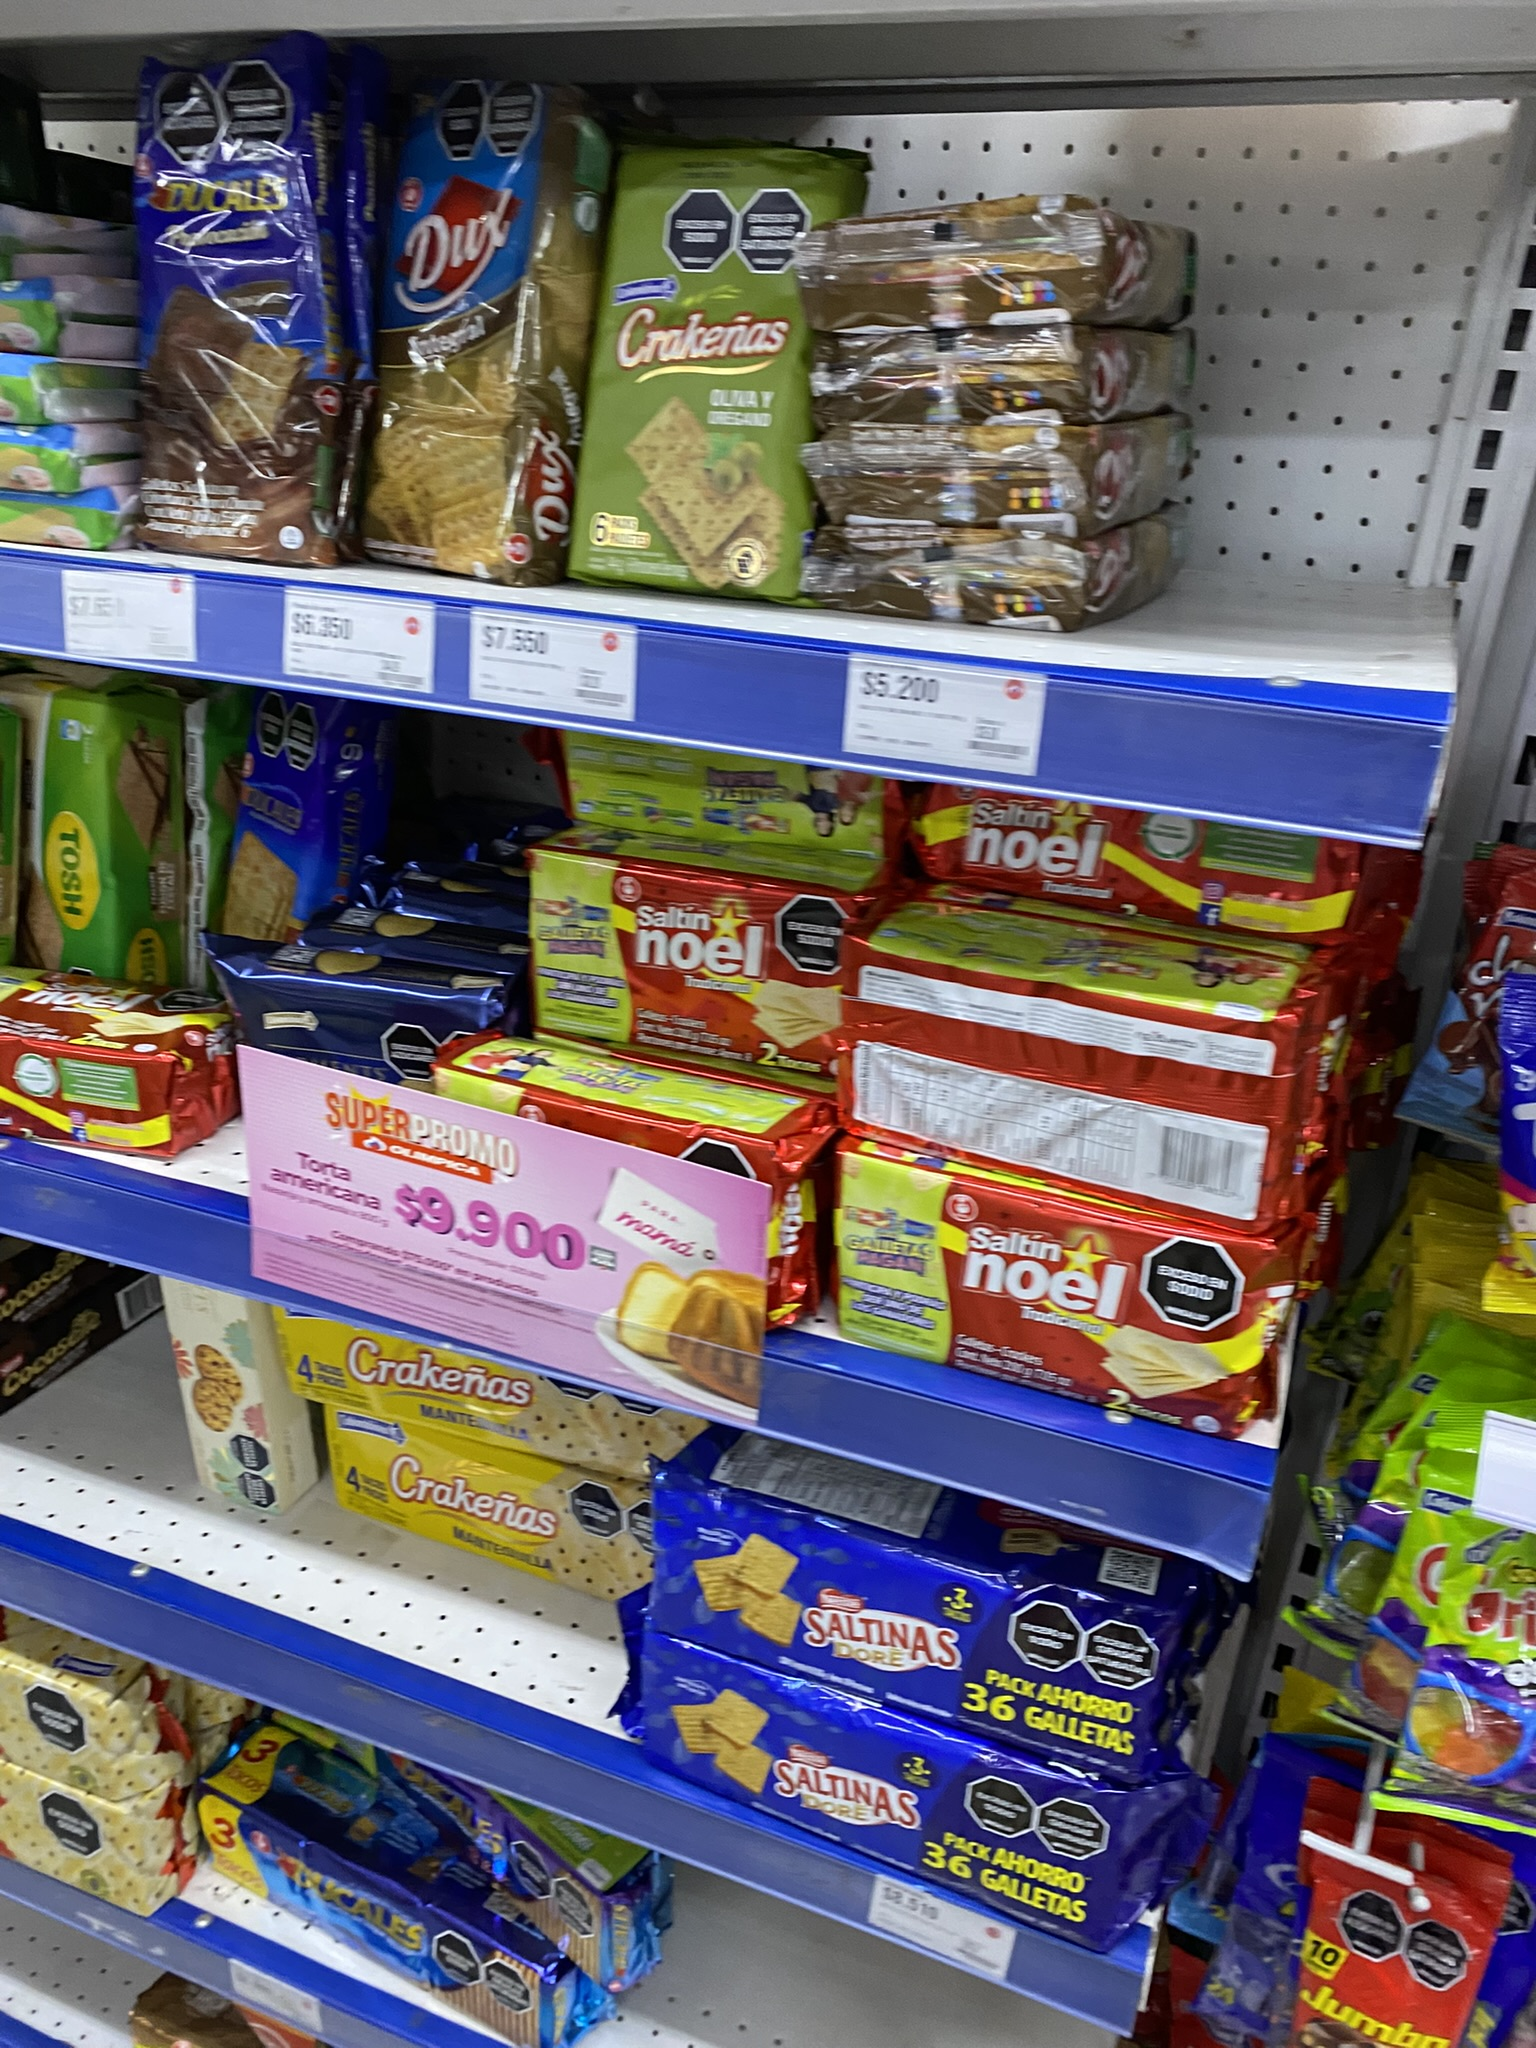Saltin Noel: (841, 1147, 1275, 1438), (847, 943, 1279, 1221), (528, 853, 845, 1092), (912, 782, 1349, 943)
